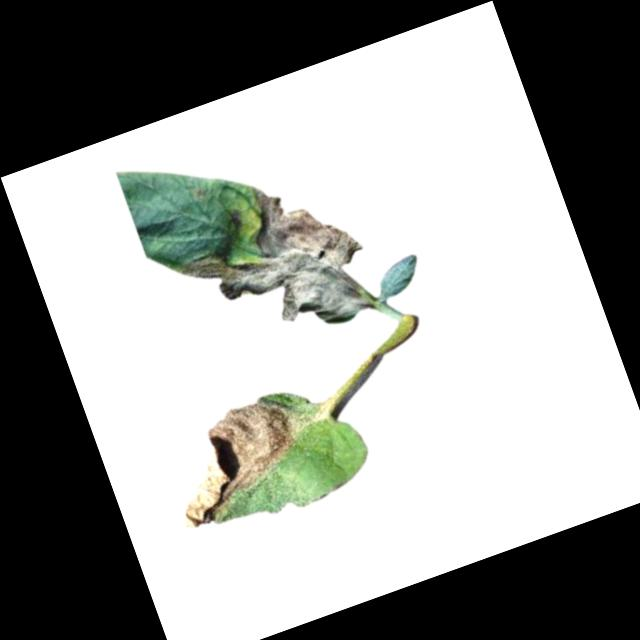Late_blight: (159, 158, 384, 369), (151, 382, 333, 530)
